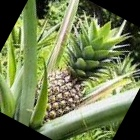Pineapple: (32, 20, 127, 124)
